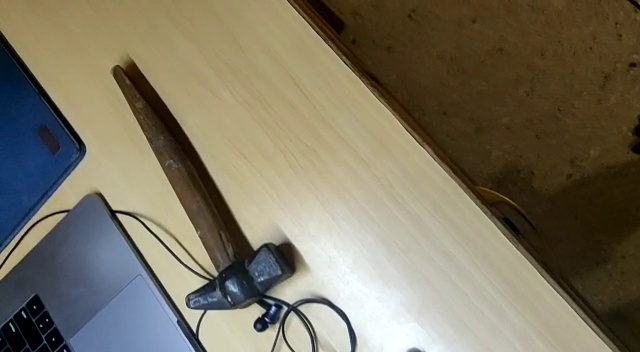hammer: (110, 64, 295, 312)
